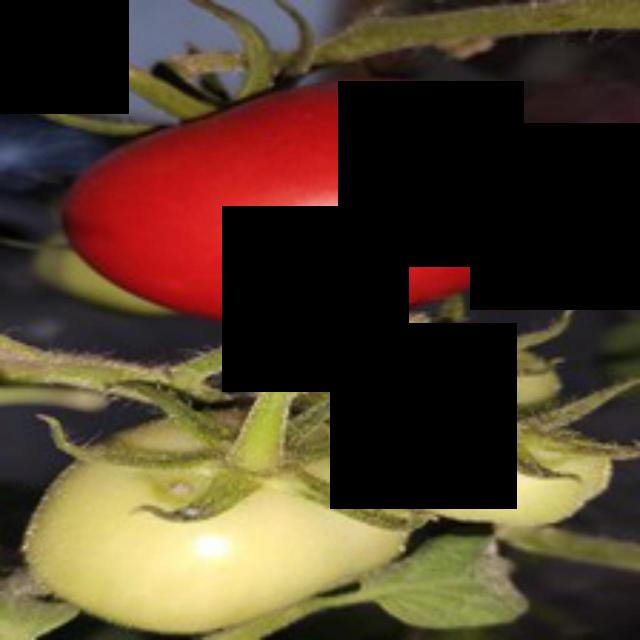tomato: (68, 72, 569, 322)
